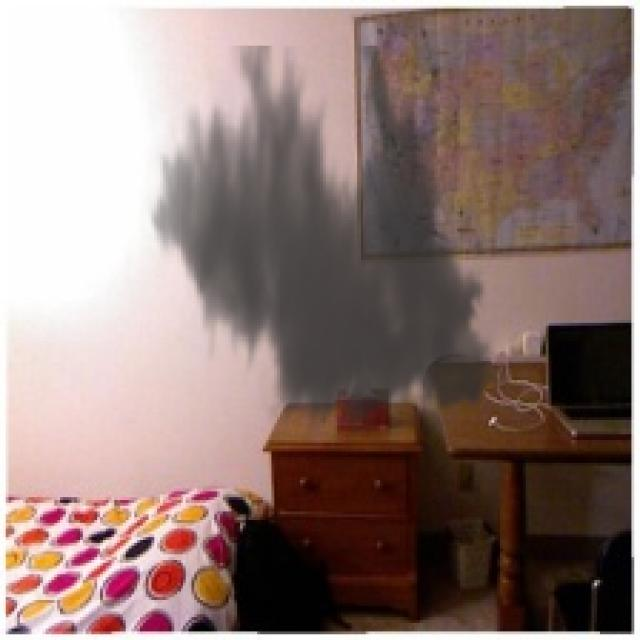smoke: (140, 46, 511, 446)
